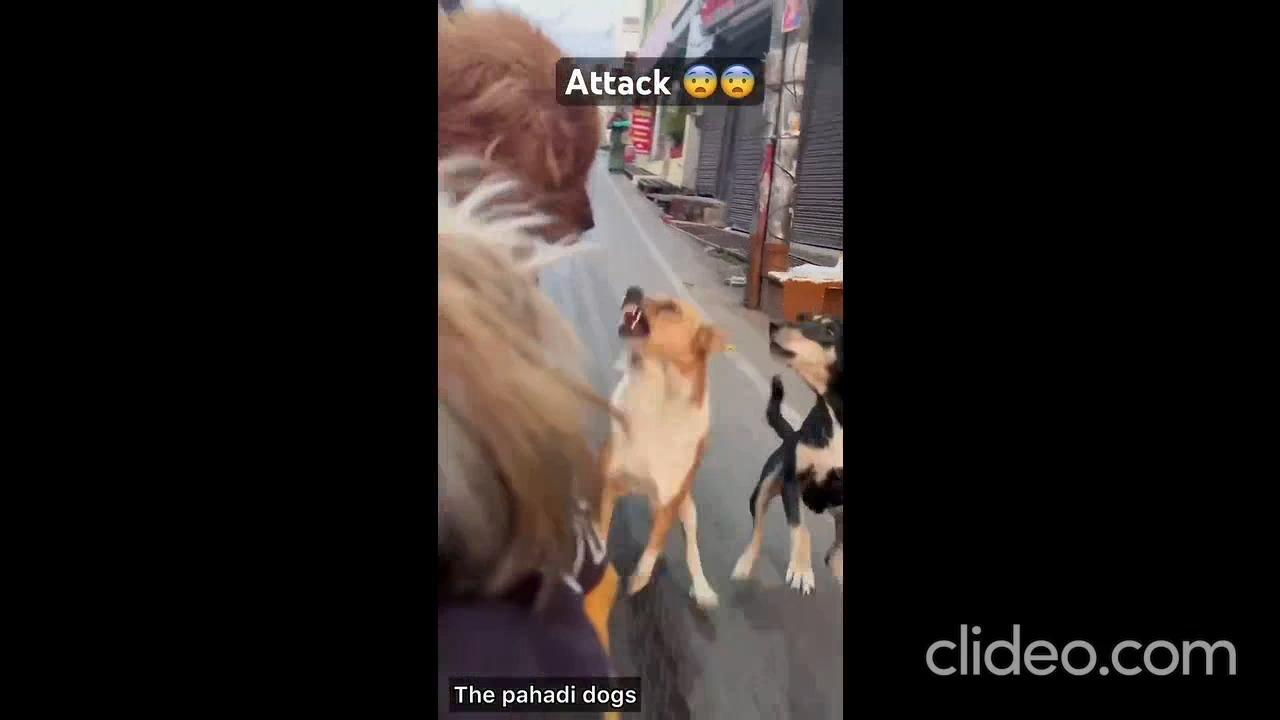dog: (593, 277, 713, 602), (739, 308, 843, 602)
